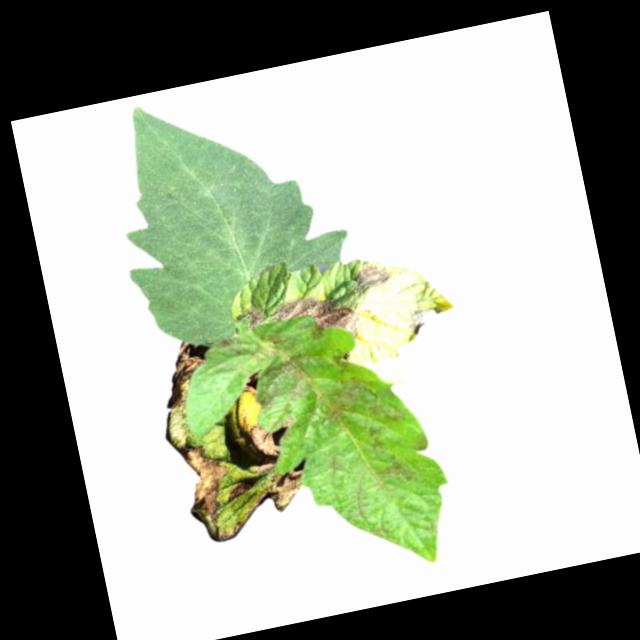Late_blight: (226, 327, 315, 416), (176, 438, 245, 549), (268, 287, 362, 353), (152, 334, 220, 410), (312, 371, 372, 430), (236, 413, 285, 473), (261, 462, 309, 514), (402, 299, 448, 336), (349, 259, 395, 294), (373, 455, 419, 489), (238, 300, 268, 331), (227, 477, 257, 502), (278, 414, 296, 429)
healthy: (95, 70, 364, 357)
